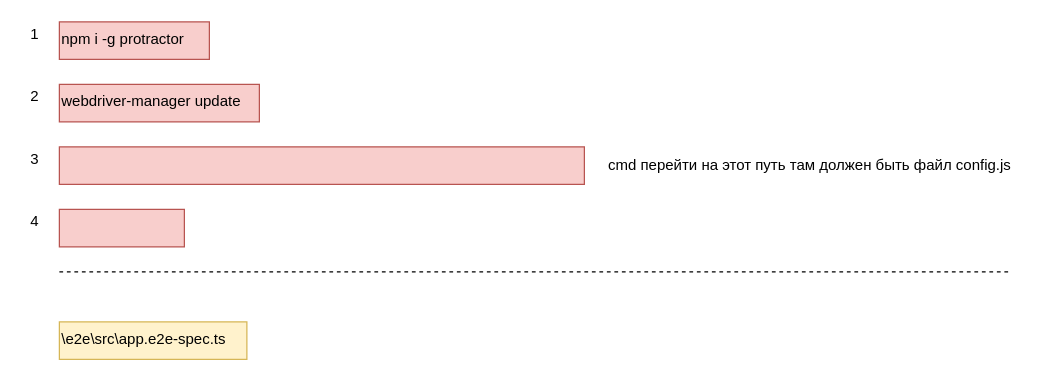
Image size: 1043x381. Some labels were removed from this diagram. Each missing label, with the centre of its shape:
cd C:\Users\Solov\AppData\Roaming\npm\node_modules\protractor\example: [321,165]
protractor conf.js: [121,227]
